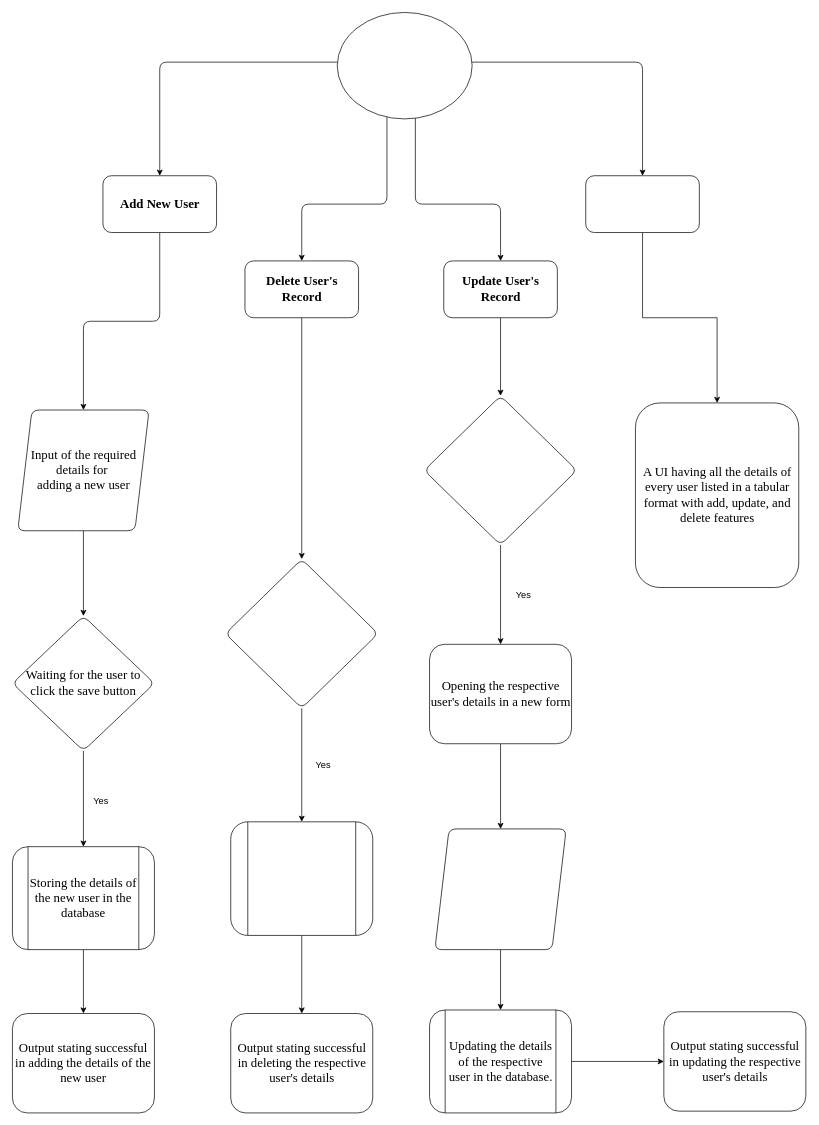
Some shapes in this 819 by 1125 pixel diagram are drawn without their labels. Here are the shapes that lost their labels. From the top down, the centre of each, then its label:
(404,65): Users
(642,204): Manage Users
(500,470): Waiting for the user to select a user's record and click the update button
(301,633): Waiting for the user to select a user's record and click the delete button
(301,878): Deleting the user's record from the database
(500,889): Updated input for the respective user's details
